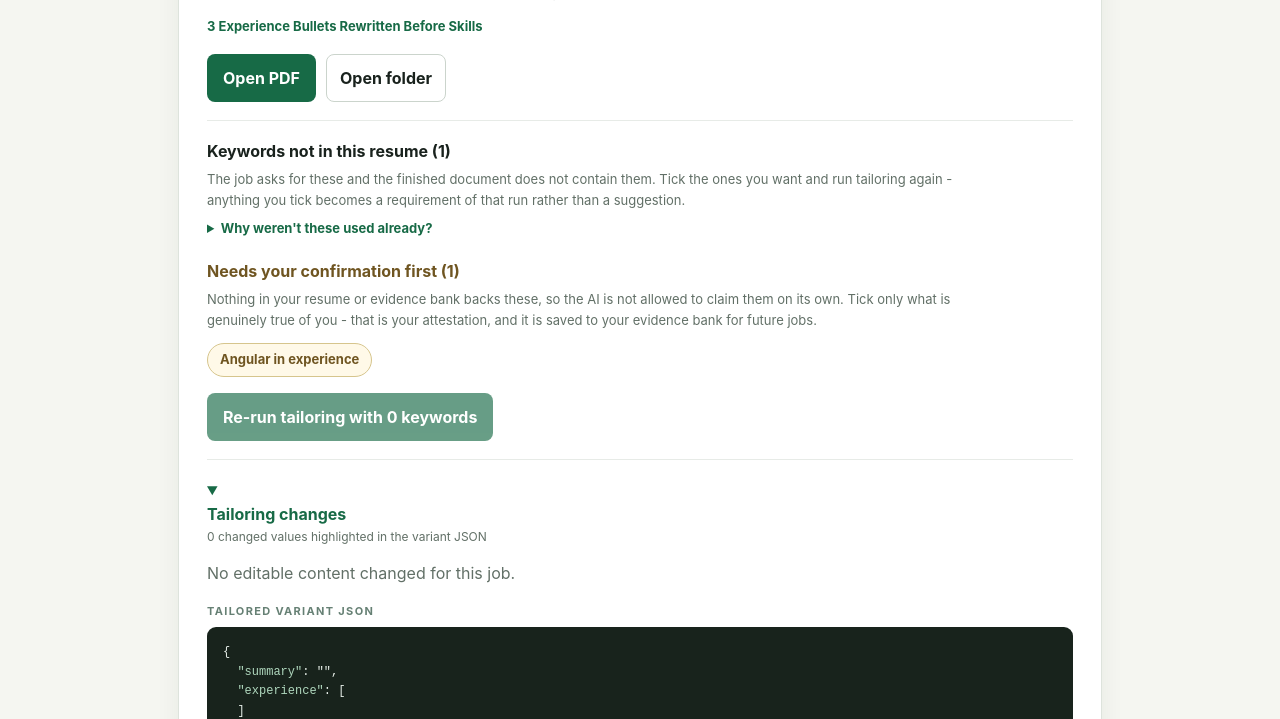
Scenario: review-to-tailoring workflow › re-tailors selected omitted pills from the recovered analysis result
The image size is (1280, 719).
(page scrolled)
Click the button "Angular in experience". click: (290, 360)
box: [207,343,372,376]
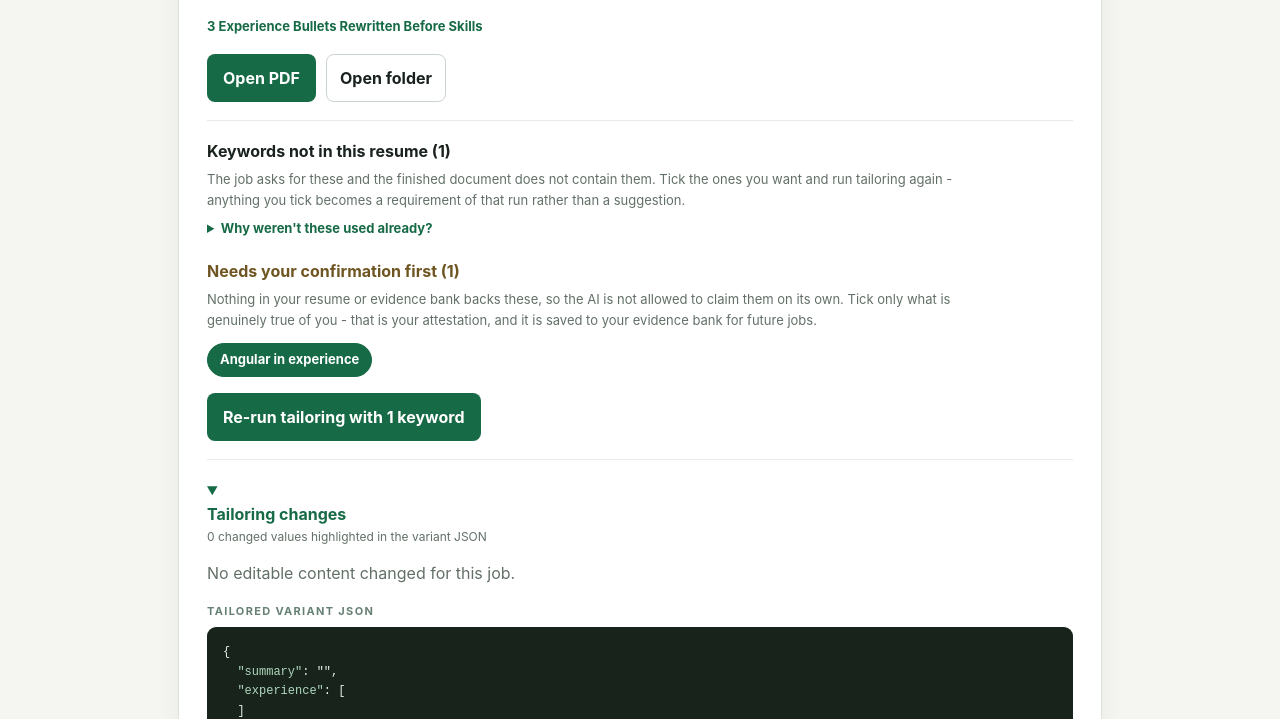
Click the button "Re-run tailoring with 1 keyword". click: (344, 416)
box: [207,392,480,440]
(page scrolled)
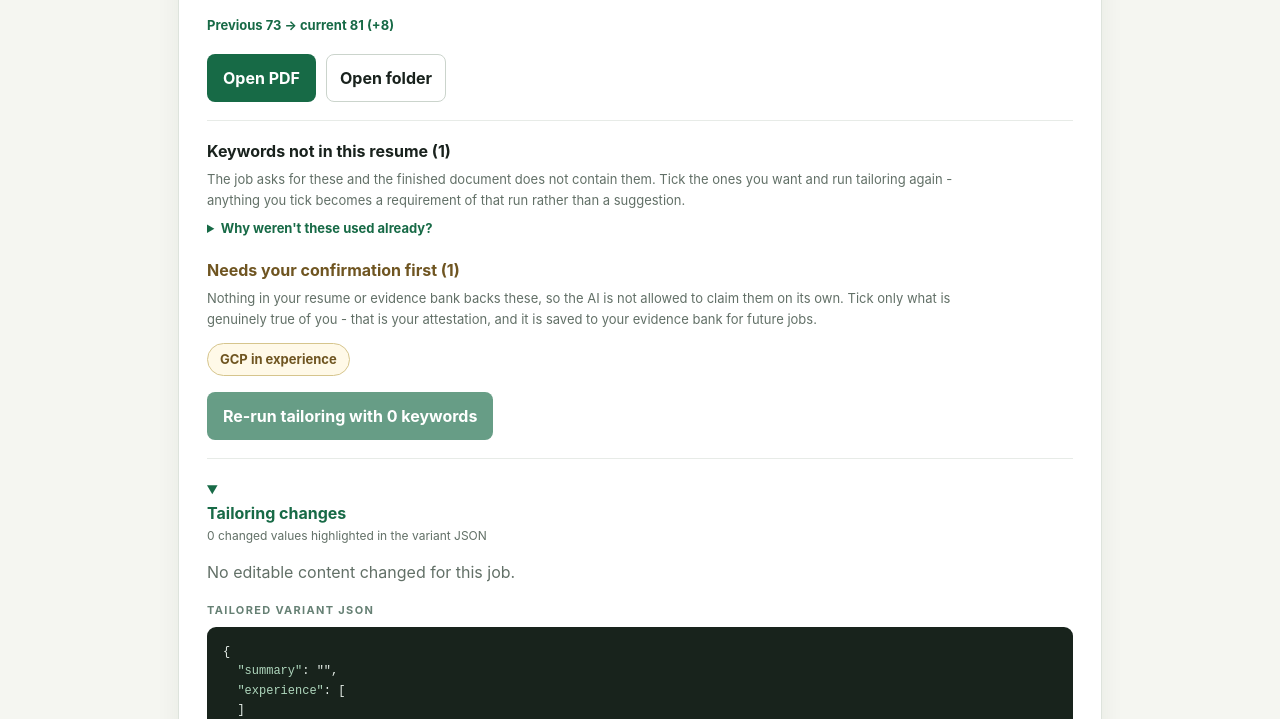
Check: the text with test id "retailor-score-delta" reads "Previous 73 → current 81 (+8)", box [207,17,394,33]
Check: the button "GCP in experience" is shown, box [207,342,350,376]
